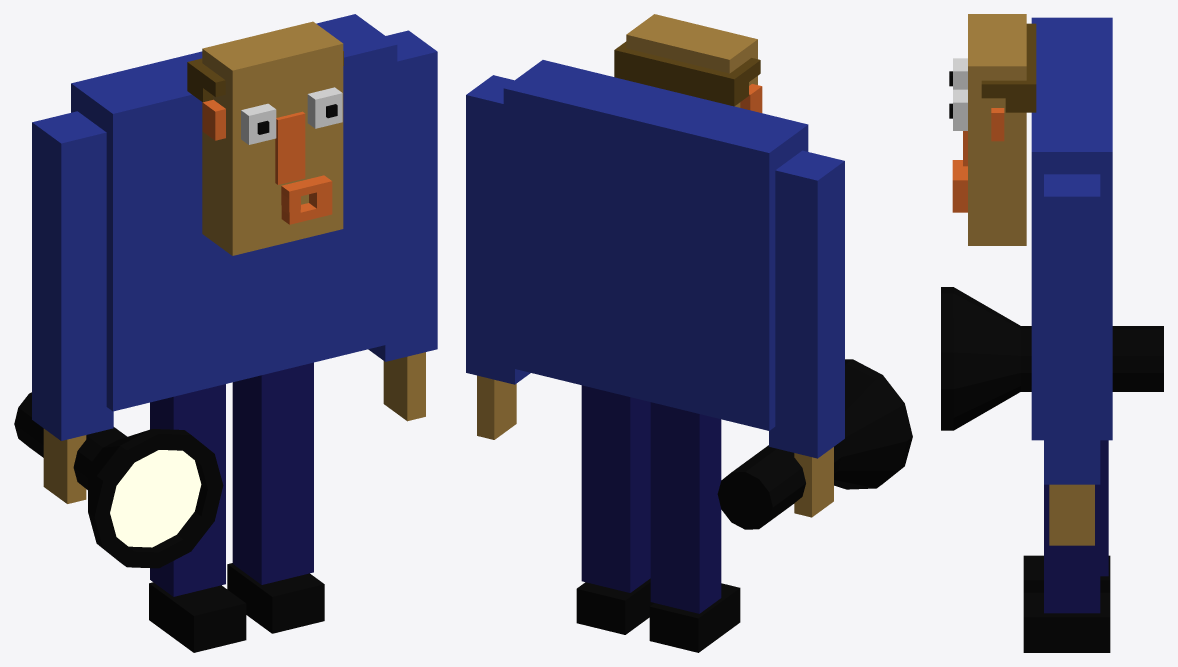
Rendered from Man.glb.
3 views of the same model, side by side, from view 1: azimuth 30°, elevation 25°; view 2: azimuth 150°, elevation 25°; view 3: azimuth 270°, elevation 25° (orthographic). The views are drawn at different scales.
Visible parts, largest first — view 1: Cube, Cube.003, Cube.001, Cylinder, Cube.005, Cube.002, Cube.004, Cube.007, Cube.006, Cube.008, Cube.009, Cube.010 (+5 smaller); view 2: Cube, Cube.003, Cube.004, Cube.005, Cylinder, Cube.002, Cube.001, Cube.013, Cube.007, Cube.006, Cube.008, Cube.009; view 3: Cube, Cube.002, Cylinder, Cube.001, Cube.005, Cube.006, Cube.008, Cube.013, Cube.004, Cube.007, Cube.016, Cube.011 (+2 smaller).
Boxes of the visible parts, x1=… form: Cube: x1=71, y1=14, x2=397, y2=411; Cube.003: x1=32, y1=111, x2=113, y2=440; Cube.001: x1=202, y1=21, x2=343, y2=255; Cylinder: x1=14, y1=392, x2=223, y2=568; Cube.005: x1=232, y1=362, x2=313, y2=584; Cube.002: x1=368, y1=30, x2=437, y2=361; Cube.004: x1=150, y1=384, x2=225, y2=596; Cube.007: x1=149, y1=582, x2=246, y2=652; Cube.006: x1=227, y1=563, x2=324, y2=633; Cube.008: x1=383, y1=352, x2=425, y2=421; Cube.009: x1=43, y1=428, x2=86, y2=503; Cube.010: x1=275, y1=111, x2=305, y2=184; Cube: x1=503, y1=60, x2=808, y2=430; Cube.003: x1=769, y1=150, x2=844, y2=458; Cube.004: x1=650, y1=402, x2=721, y2=613; Cube.005: x1=581, y1=385, x2=650, y2=592; Cylinder: x1=717, y1=359, x2=912, y2=529; Cube.002: x1=466, y1=75, x2=530, y2=384; Cube.001: x1=626, y1=14, x2=757, y2=107; Cube.013: x1=614, y1=41, x2=760, y2=106; Cube.007: x1=649, y1=583, x2=740, y2=652; Cube.006: x1=576, y1=578, x2=653, y2=634; Cube.008: x1=477, y1=375, x2=516, y2=439; Cube.009: x1=794, y1=447, x2=833, y2=517; Cube: x1=1031, y1=17, x2=1112, y2=440; Cube.002: x1=1044, y1=174, x2=1100, y2=484; Cylinder: x1=941, y1=287, x2=1163, y2=430; Cube.001: x1=968, y1=14, x2=1026, y2=245; Cube.005: x1=1044, y1=484, x2=1100, y2=613; Cube.006: x1=1023, y1=592, x2=1110, y2=652; Cube.008: x1=1049, y1=484, x2=1094, y2=545; Cube.013: x1=981, y1=23, x2=1036, y2=112; Cube.004: x1=1100, y1=440, x2=1108, y2=576; Cube.007: x1=1023, y1=555, x2=1110, y2=592; Cube.016: x1=952, y1=160, x2=967, y2=212; Cube.011: x1=953, y1=89, x2=967, y2=130.
Bounding box in the file's own units: 2.79 × 4.04 × 1.4.
